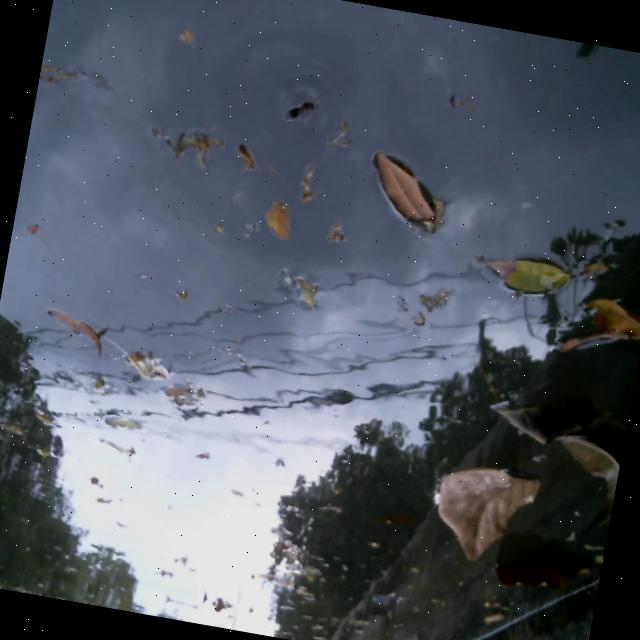Big-leaf: (469, 373, 630, 517), (427, 448, 550, 576), (548, 280, 640, 370), (492, 544, 601, 610)
Small-leaf: (358, 139, 457, 238), (477, 237, 576, 313), (15, 297, 114, 366), (102, 321, 170, 404), (244, 175, 300, 256), (267, 248, 329, 321)
